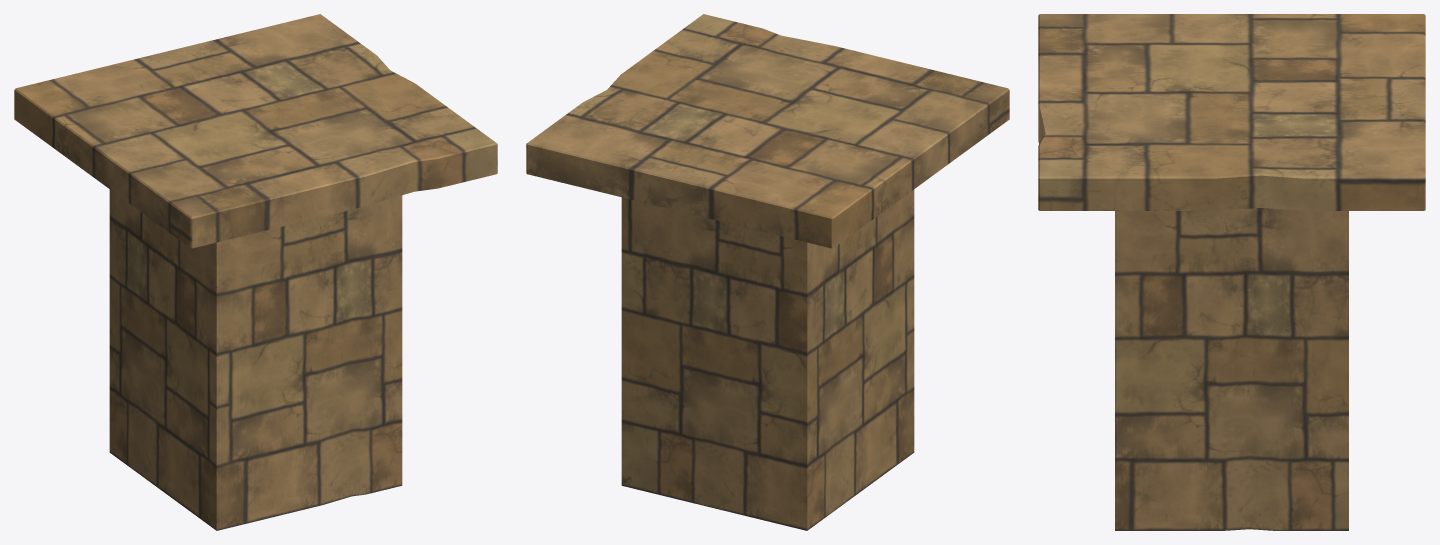
Rendered from VerticalPlatform.fbx.
3 renders of one model, left to right at view 1: azimuth 30°, elevation 25°; view 2: azimuth 150°, elevation 25°; view 3: azimuth 270°, elevation 25°, orthographic. The views are drawn at different scales.
Parts seen in each view (by area): view 1: ShaftPlatform, VerticalPlatform; view 2: ShaftPlatform, VerticalPlatform; view 3: VerticalPlatform, ShaftPlatform.
Part boxes in pixels (x1,y1,x2,y2): ShaftPlatform: [109, 189, 402, 530]; VerticalPlatform: [14, 14, 497, 248]; ShaftPlatform: [621, 189, 914, 530]; VerticalPlatform: [526, 14, 1009, 248]; VerticalPlatform: [1038, 14, 1425, 210]; ShaftPlatform: [1115, 208, 1348, 530].
Bounding box in the file's own units: 500 × 550 × 500.
